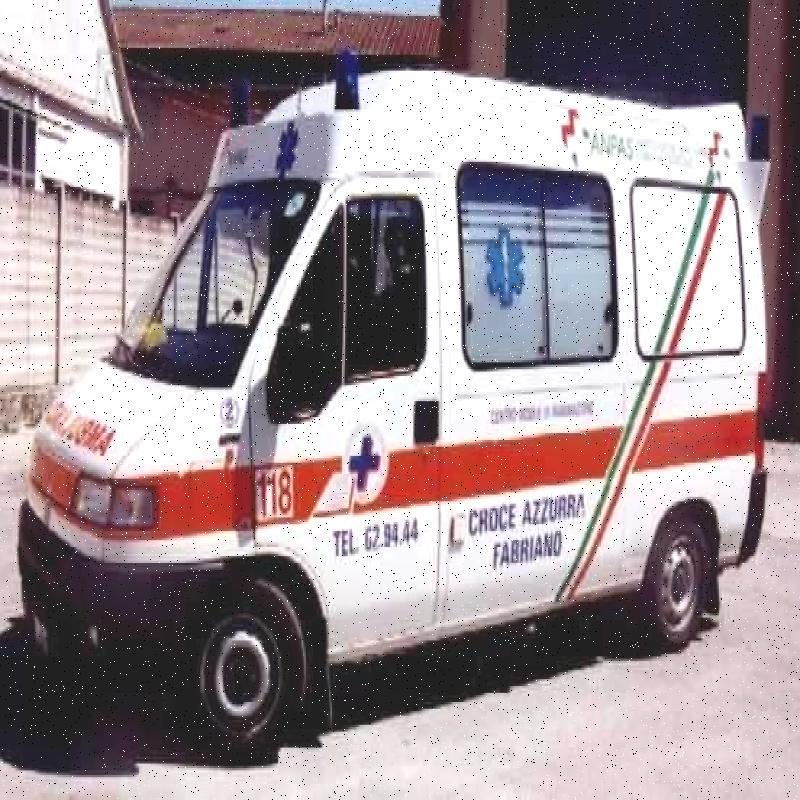AmbulanceSiren: (319, 35, 363, 127)
